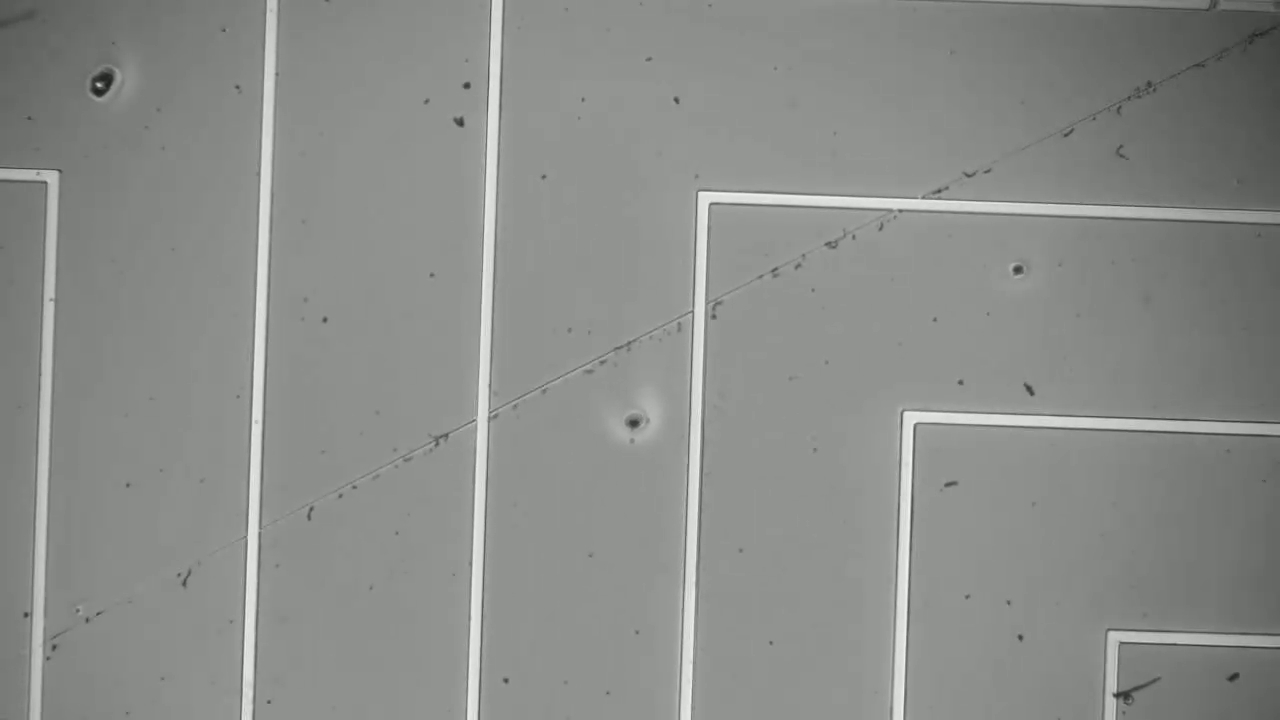scratch: (49, 22, 1280, 637)
